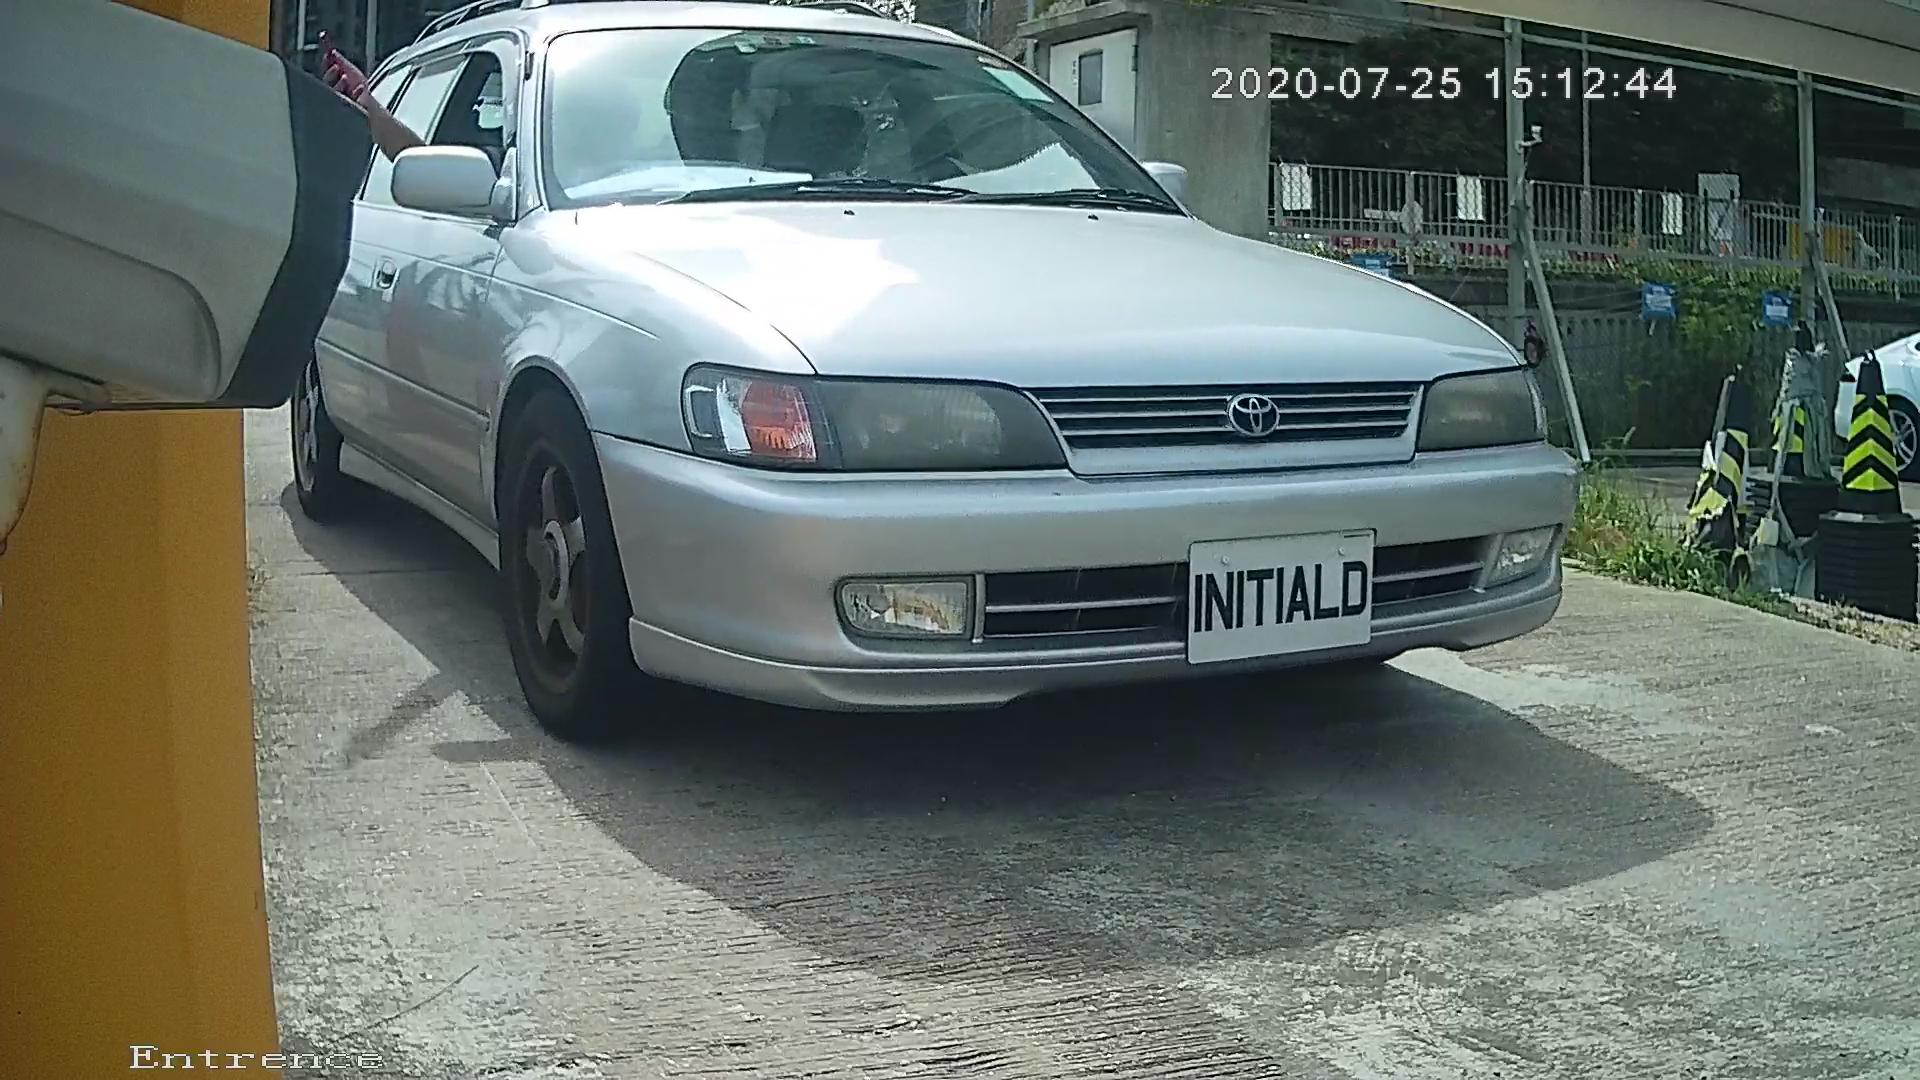License Plate: (1163, 518, 1410, 689)
